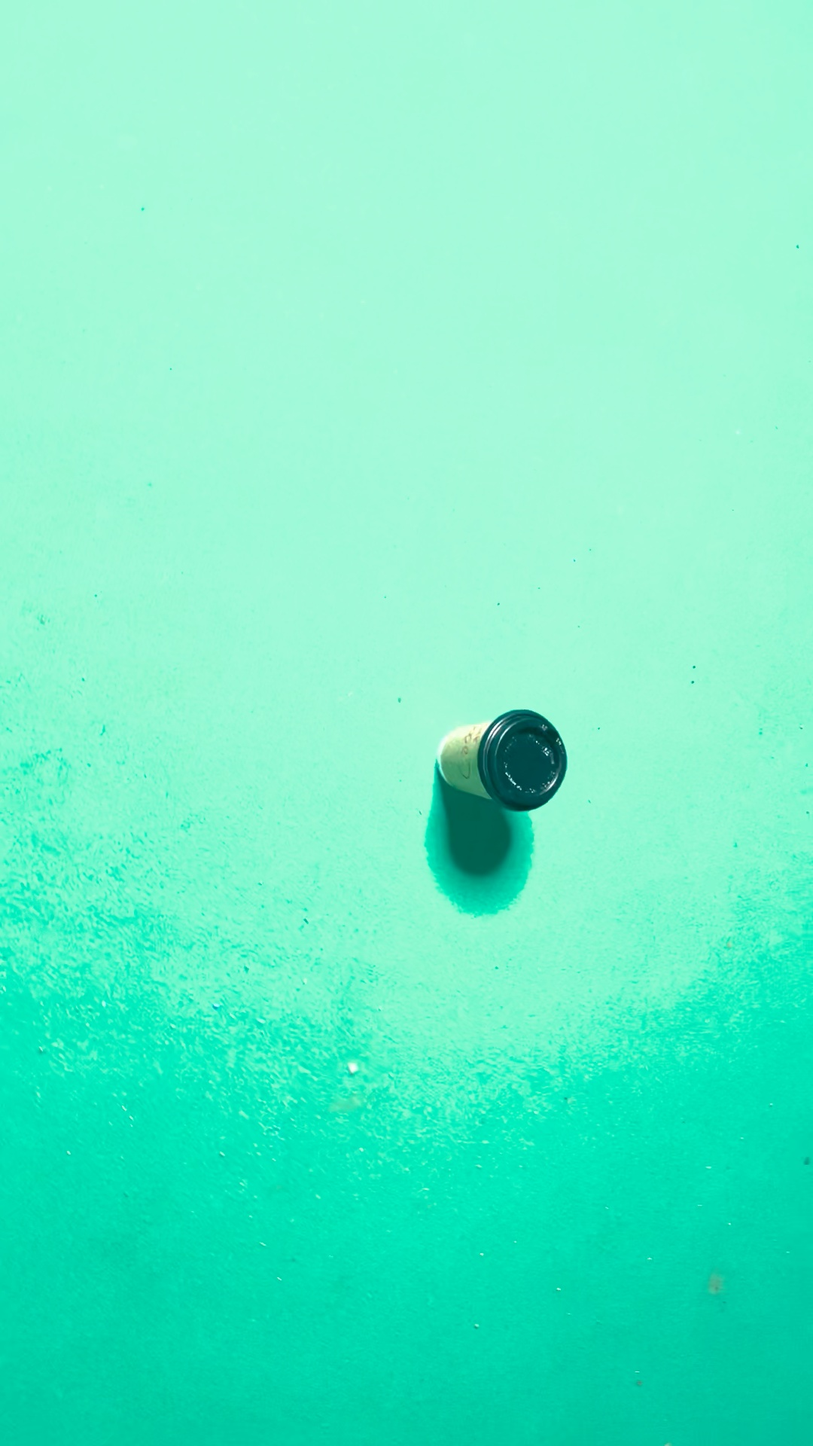cup: (412, 370, 499, 788)
